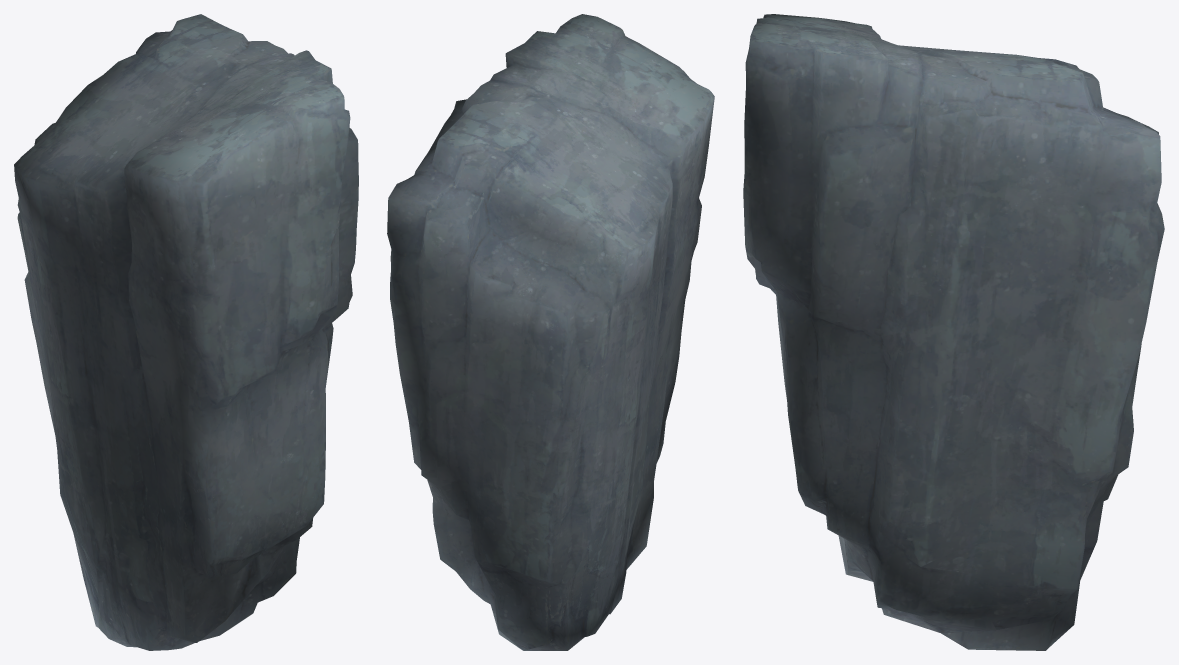
File: Area_Cyjy_Stone_UP_Full_M_06.fbx
The picture shows the model from 3 angles, left to right: view 1: azimuth 30°, elevation 25°; view 2: azimuth 150°, elevation 25°; view 3: azimuth 270°, elevation 25°; orthographic projection. The views are drawn at different scales.
Visible parts, largest first — view 1: Area_Cyjy_Stone_UP_Full_M_06_StoneTint_Lod0; view 2: Area_Cyjy_Stone_UP_Full_M_06_StoneTint_Lod0; view 3: Area_Cyjy_Stone_UP_Full_M_06_StoneTint_Lod0.
Part boxes in pixels (box(x1,y1,x2,y2)): Area_Cyjy_Stone_UP_Full_M_06_StoneTint_Lod0: box(14, 14, 358, 650); Area_Cyjy_Stone_UP_Full_M_06_StoneTint_Lod0: box(387, 14, 714, 650); Area_Cyjy_Stone_UP_Full_M_06_StoneTint_Lod0: box(743, 14, 1164, 650).
Size of the model in its own units: 26.36 by 61.4 by 36.62.
1 material, 1 textured.
